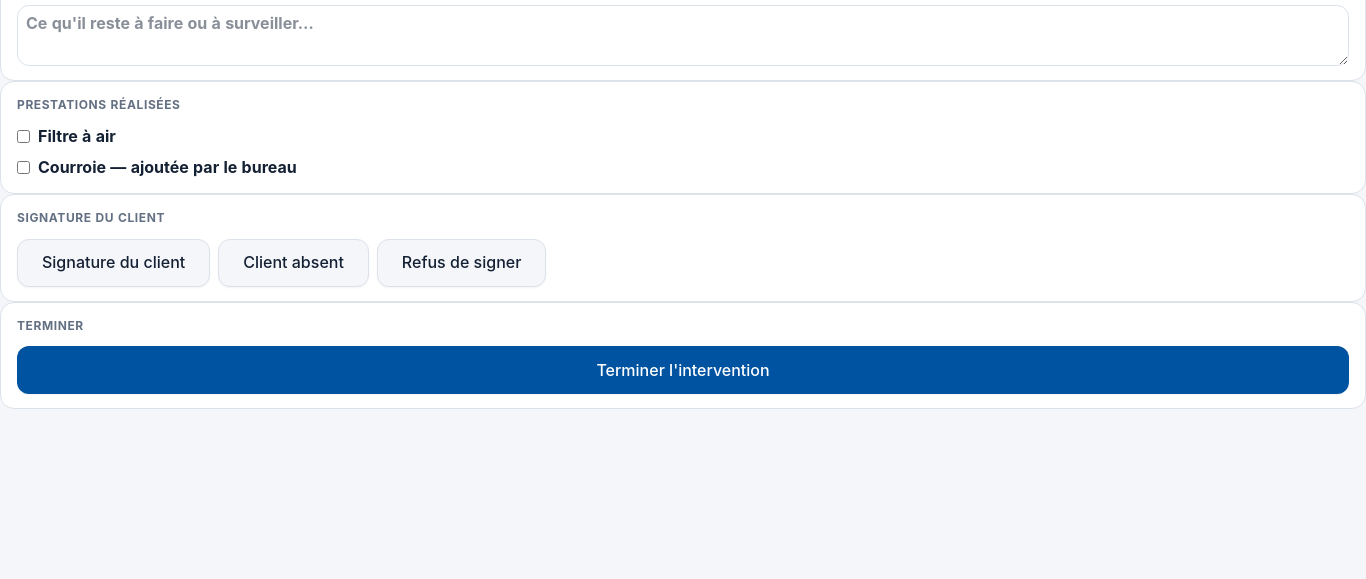
it: le verdict local de « Terminer », hors réseau (point 4, 9F4H3A, C5) › aucun temps mesuré, ni connu ni en file : refuse « temps manquant », rien en file
Click the button "Client absent" at [294, 263], box [218,239,369,287]
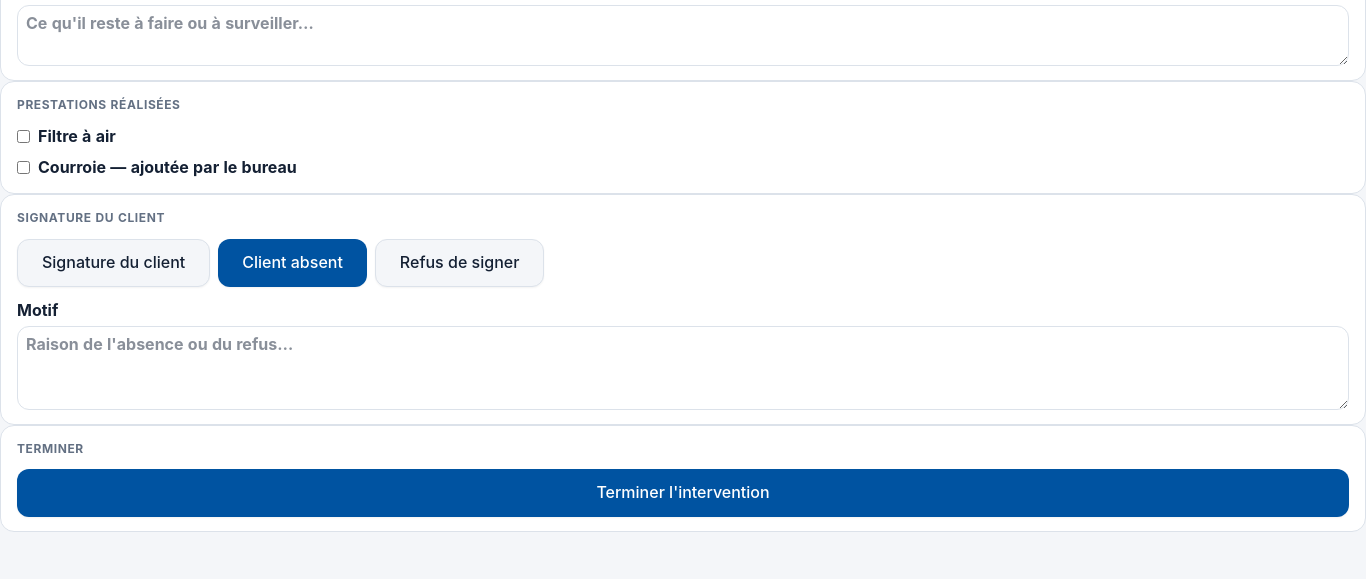
Type "Client absent au départ du technicien" into the text box labelled "Motif" at [683, 368], box [17,326,1349,410]
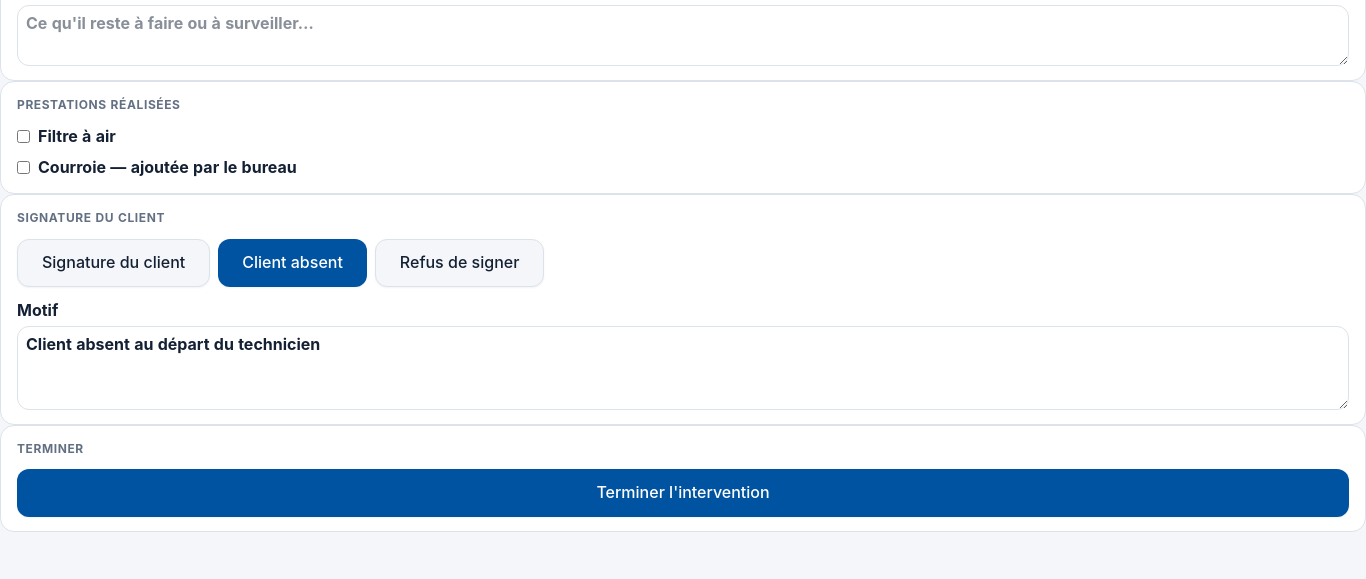
Click the button "Terminer l'intervention" at [683, 493], box [17,469,1349,517]
(page scrolled)
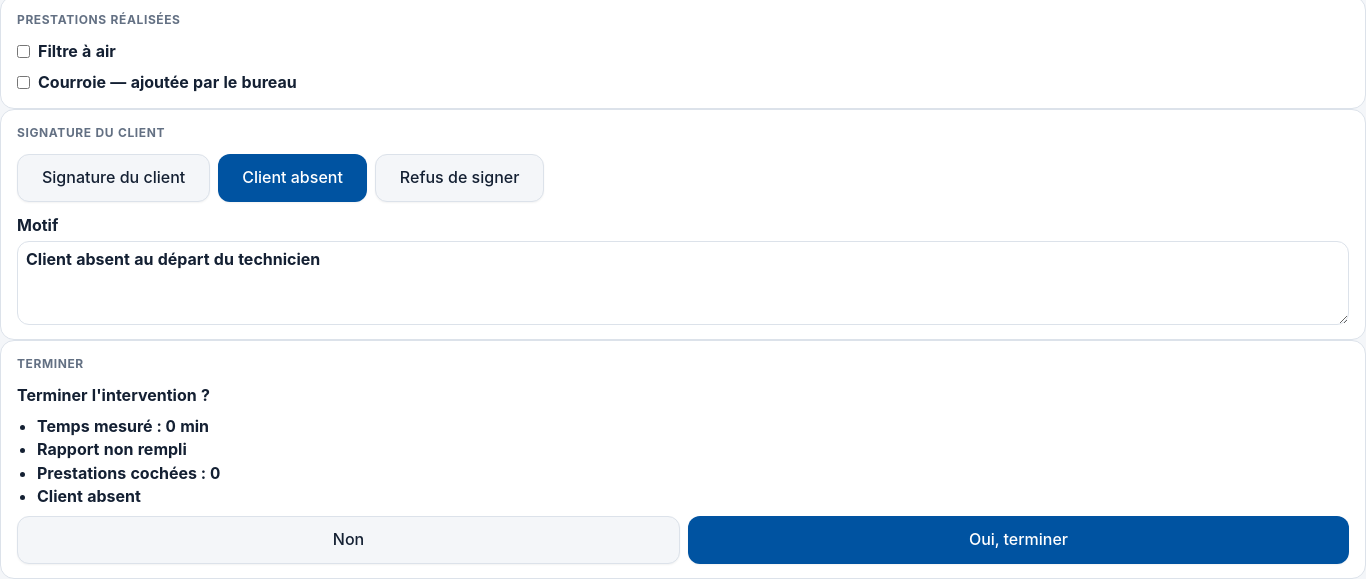
Click the button "Oui, terminer" at [1018, 540], box [688,516,1349,564]
(page scrolled)
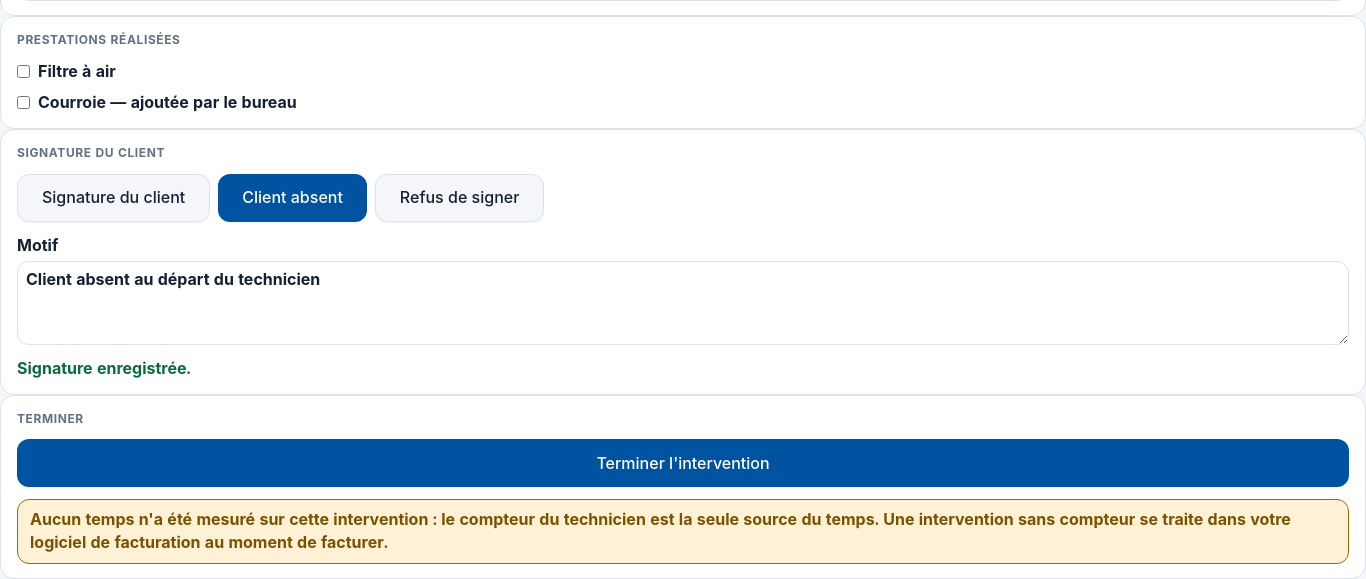
expect the text "Aucun temps n'a été mesuré sur cette intervention : le compteur du technicien est la seule source du temps. Une interven" is shown: met, box [30,509,1291,552]
